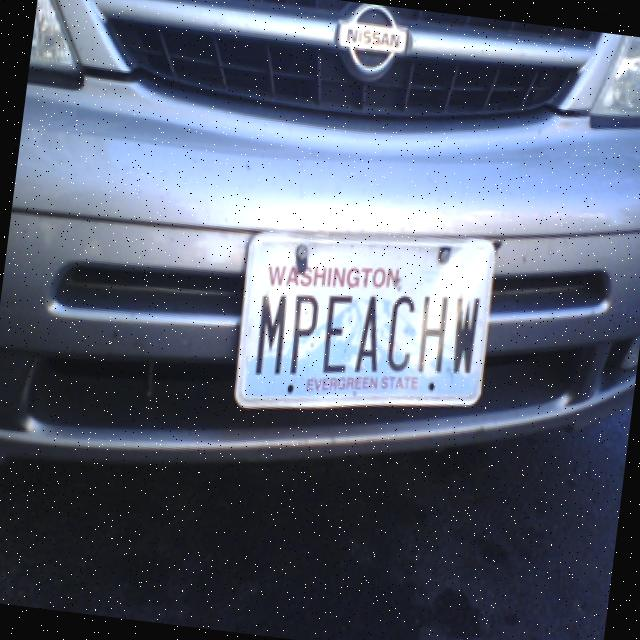Autre: (228, 232, 500, 422)
